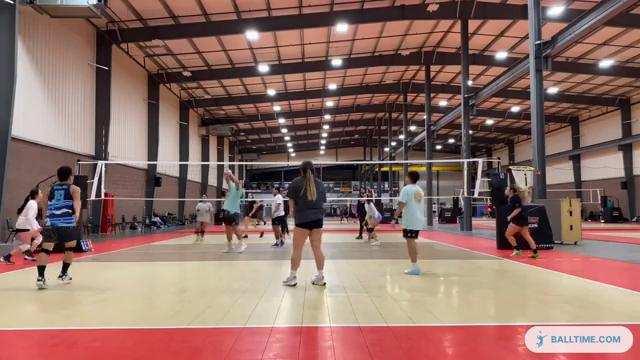Player: (36, 166, 80, 288), (283, 161, 325, 285), (0, 188, 41, 263), (395, 171, 423, 274), (506, 185, 539, 258), (271, 187, 286, 246), (195, 195, 213, 241), (365, 195, 381, 245), (243, 193, 256, 238), (280, 189, 289, 238), (356, 196, 365, 239)
Set: (216, 166, 248, 255)
ball: (222, 168, 233, 177)
